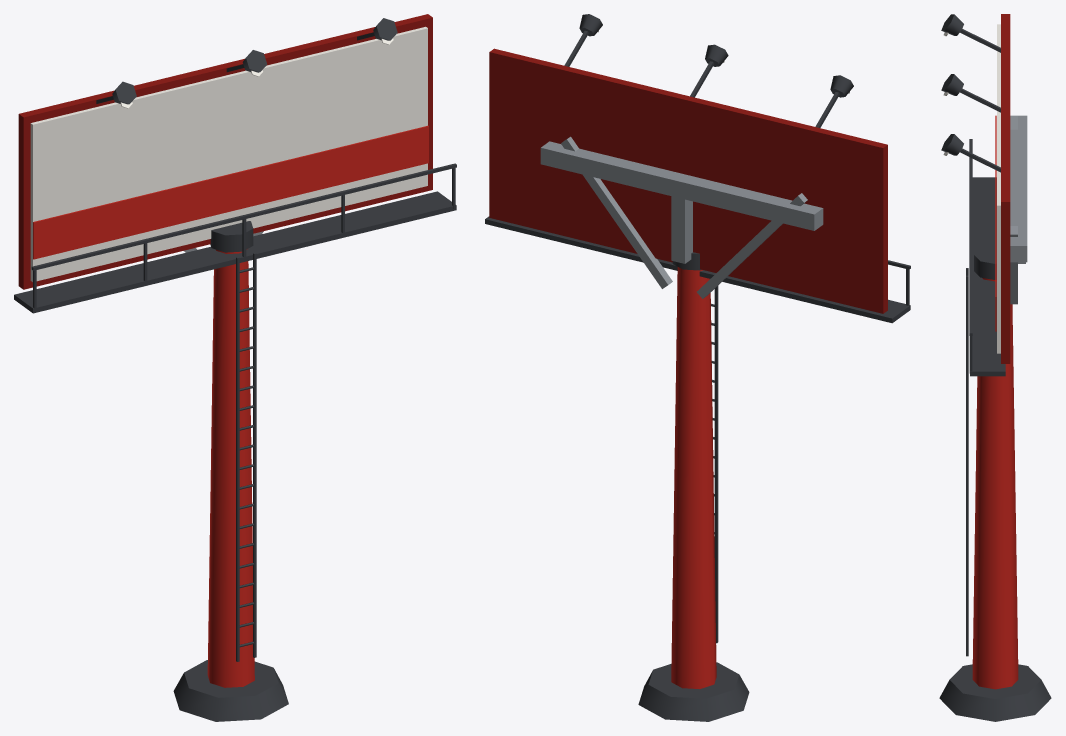
The model's file is billboard-tower.glb.
3 views of the same model, side by side, from view 1: azimuth 30°, elevation 25°; view 2: azimuth 150°, elevation 25°; view 3: azimuth 270°, elevation 25° (orthographic). The views are drawn at different scales.
Parts seen in each view (by area): view 1: panel_face, pole, face_stripe, catwalk, panel_frame, footing, catwalk_rail, ladder_rail_l, ladder_rail_r, pole_collar; view 2: panel_frame, pole, support_beam, footing, catwalk, strut_r, ladder_rail_l, head_post, strut_l; view 3: pole, catwalk, footing, panel_frame, support_beam, panel_face, ladder_rail_r, catwalk_rail, pole_collar, strut_r, face_stripe, lamp_0 (+5 smaller).
Part boxes in pixels (box(x1,y1,x2,y2)): panel_face: box(30, 26, 427, 281); pole: box(207, 249, 254, 687); face_stripe: box(33, 125, 428, 259); catwalk: box(14, 191, 456, 313); panel_frame: box(18, 14, 432, 289); footing: box(173, 660, 288, 721); catwalk_rail: box(31, 163, 456, 270); ladder_rail_l: box(236, 257, 239, 661); ladder_rail_r: box(253, 252, 256, 657); pole_collar: box(210, 221, 253, 252); panel_frame: box(489, 48, 887, 313); pole: box(671, 267, 716, 688); support_beam: box(540, 141, 823, 230); footing: box(638, 662, 749, 721); catwalk: box(485, 216, 910, 323); strut_r: box(561, 136, 672, 288); ladder_rail_l: box(714, 285, 718, 643); head_post: box(671, 196, 692, 263); strut_l: box(697, 193, 807, 298); pole: box(972, 278, 1018, 689); catwalk: box(970, 177, 1005, 376); footing: box(939, 664, 1051, 721); panel_frame: box(1001, 14, 1010, 363); support_beam: box(1010, 115, 1027, 262); panel_face: box(997, 24, 1000, 353); ladder_rail_r: box(966, 275, 968, 656); catwalk_rail: box(969, 139, 972, 335); pole_collar: box(974, 246, 996, 279); strut_r: box(1010, 226, 1017, 304); face_stripe: box(995, 115, 996, 331); lamp_0: box(941, 14, 963, 35).
Size of the model in its own units: 9 by 13.48 by 2.2.
